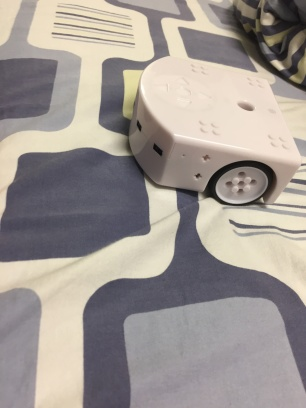thymio: (119, 43, 306, 214)
